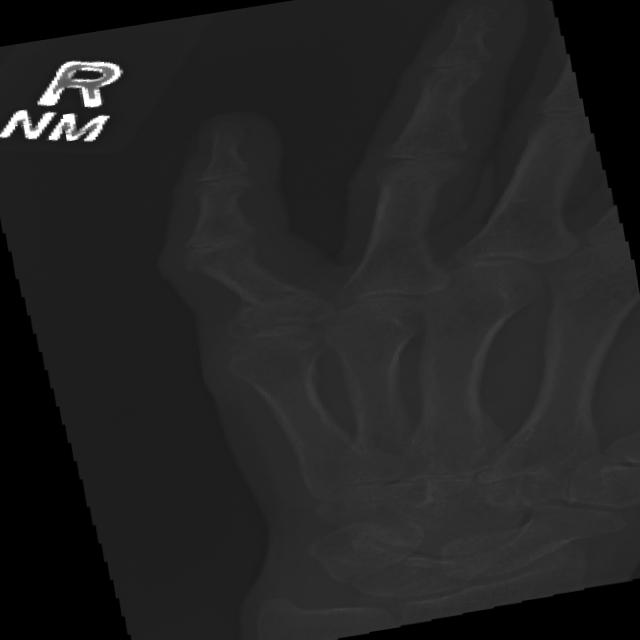fingers positive: (219, 285, 343, 338), (173, 243, 283, 284)
